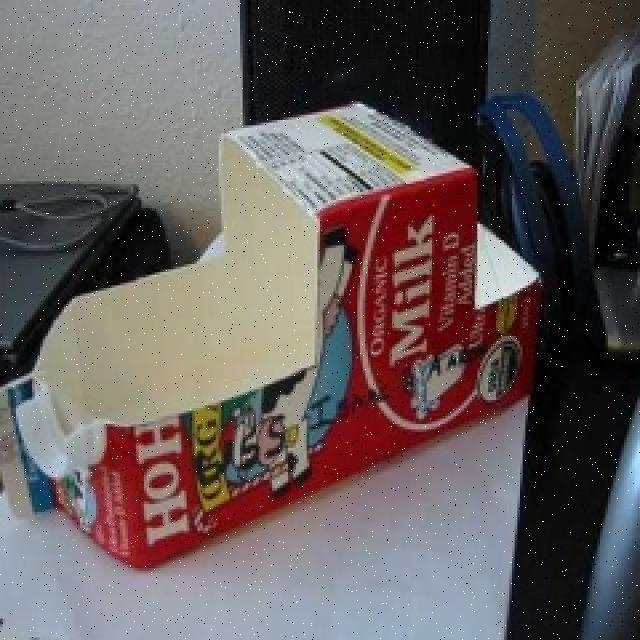box: (0, 85, 557, 570)
